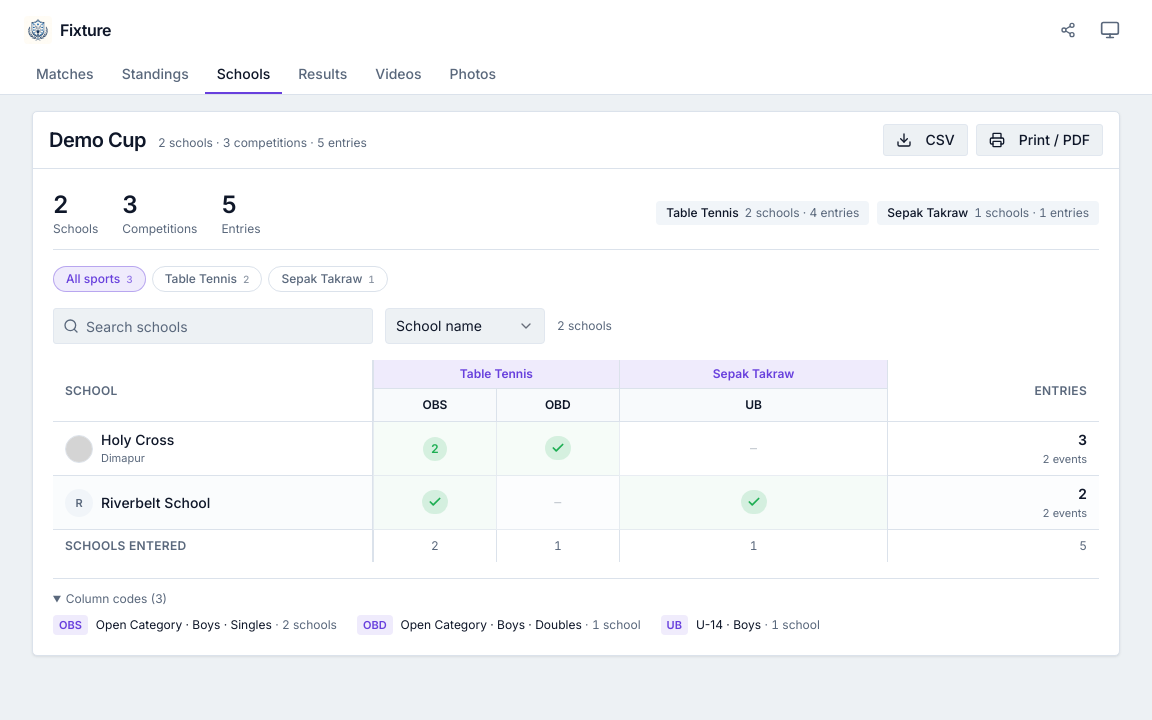
Test case: PublicEntriesPage › searches by school name
Expected: the table with test id "entries-matrix" is shown, x1=53 y1=360 x2=1099 y2=562
Type "river" into the field with test id "entries-search".
click(213, 326); type("river")  # box x1=53 y1=308 x2=373 y2=344
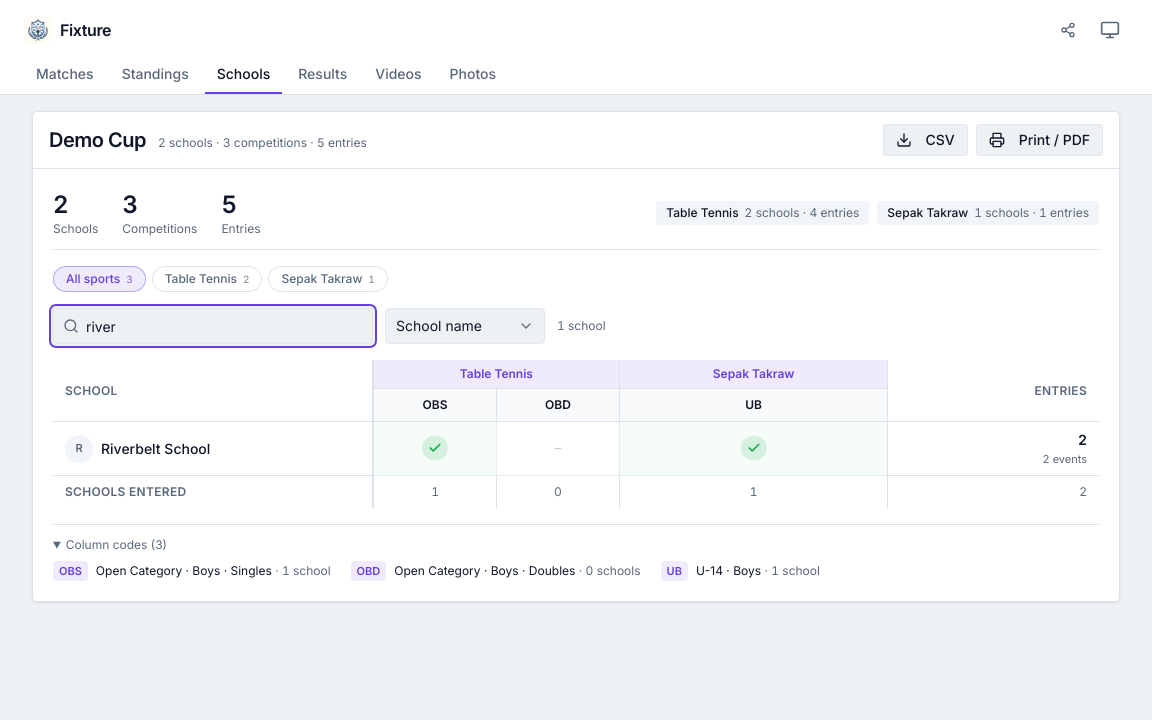
Expected: the row with test id "entries-row-i2" is shown, x1=53 y1=422 x2=1099 y2=476
Expected: the row with test id "entries-row-i1" is gone
Expected: the text with test id "entries-row-count" reads "1 school", x1=557 y1=318 x2=606 y2=334
